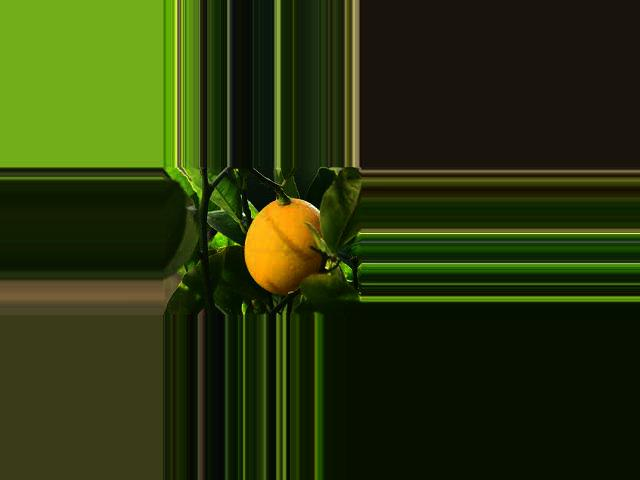lemon: (237, 193, 334, 298)
